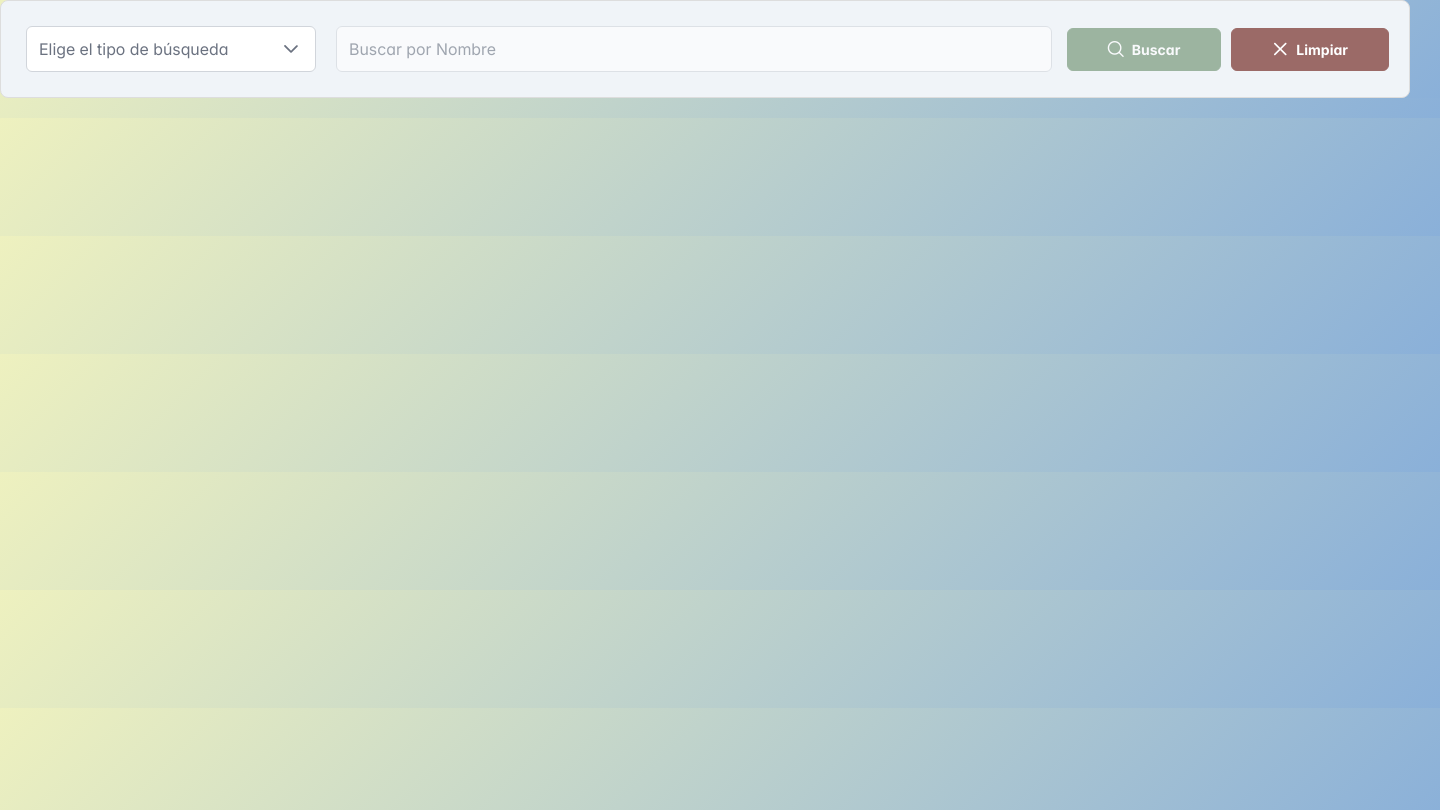
Test: Componente ProductSearch › deshabilita el botón Buscar si los campos no están completos
Expected: the button "Buscar" is disabled, [1067, 28, 1221, 70]
Note: Seleccionar búsqueda por estado
Click the element with test id "search-type-dropdown" at (171,49), box [26, 26, 316, 72]
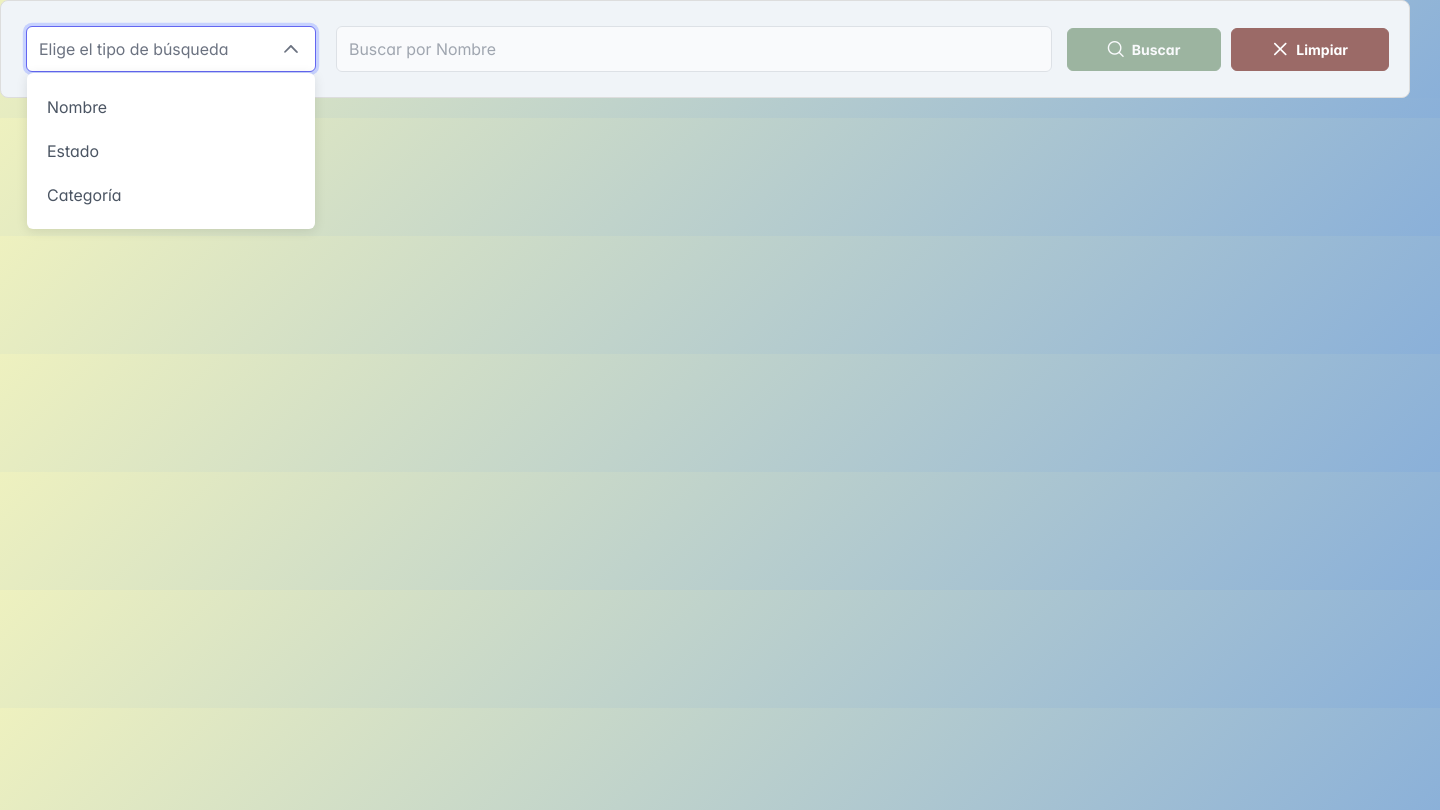
Click the option "Estado" at (73,151), box [47, 141, 99, 161]
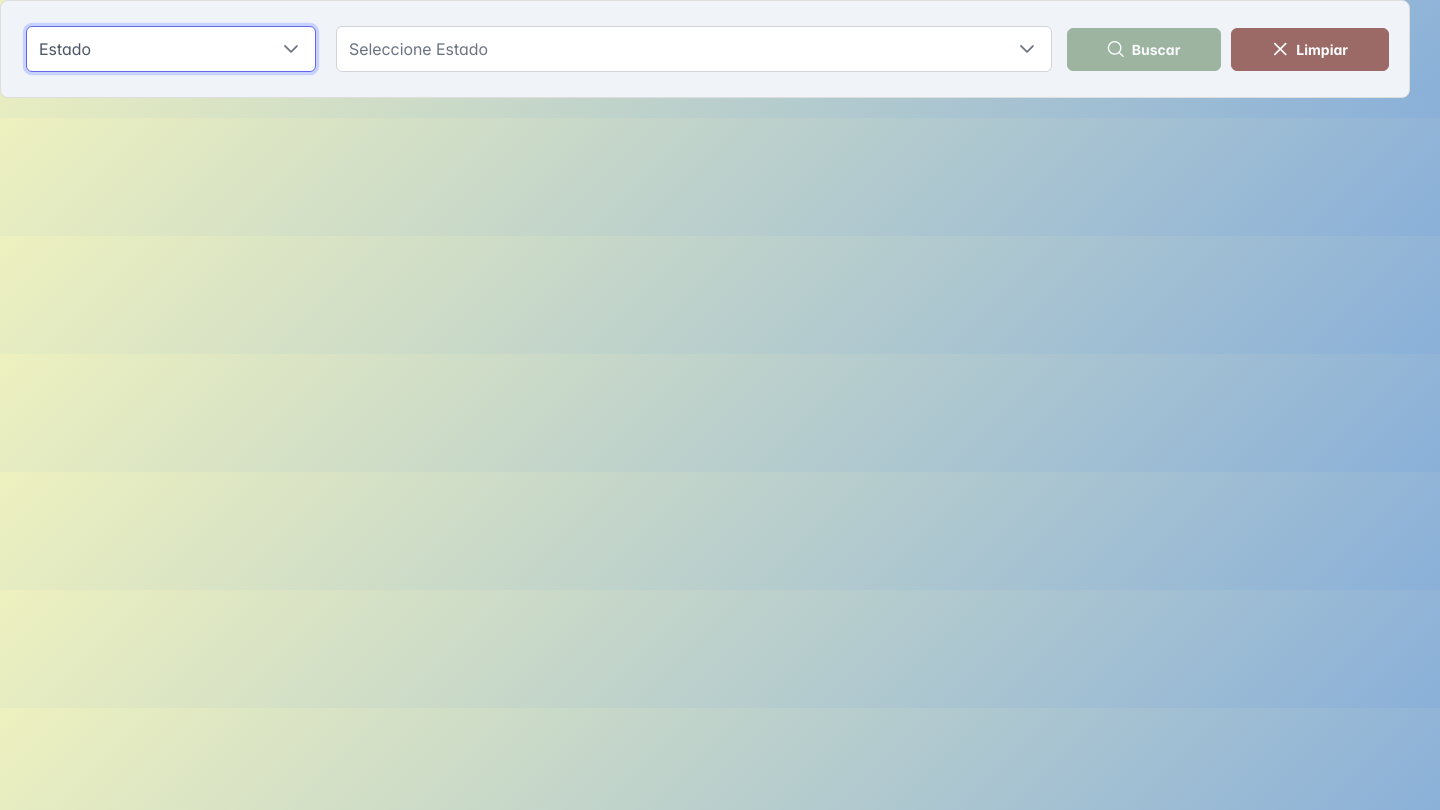
Expected: the button "Buscar" is disabled, [1067, 28, 1221, 70]
Note: Seleccionar un estado
Click the element with test id "status-dropdown" at (694,49), box [336, 26, 1052, 72]
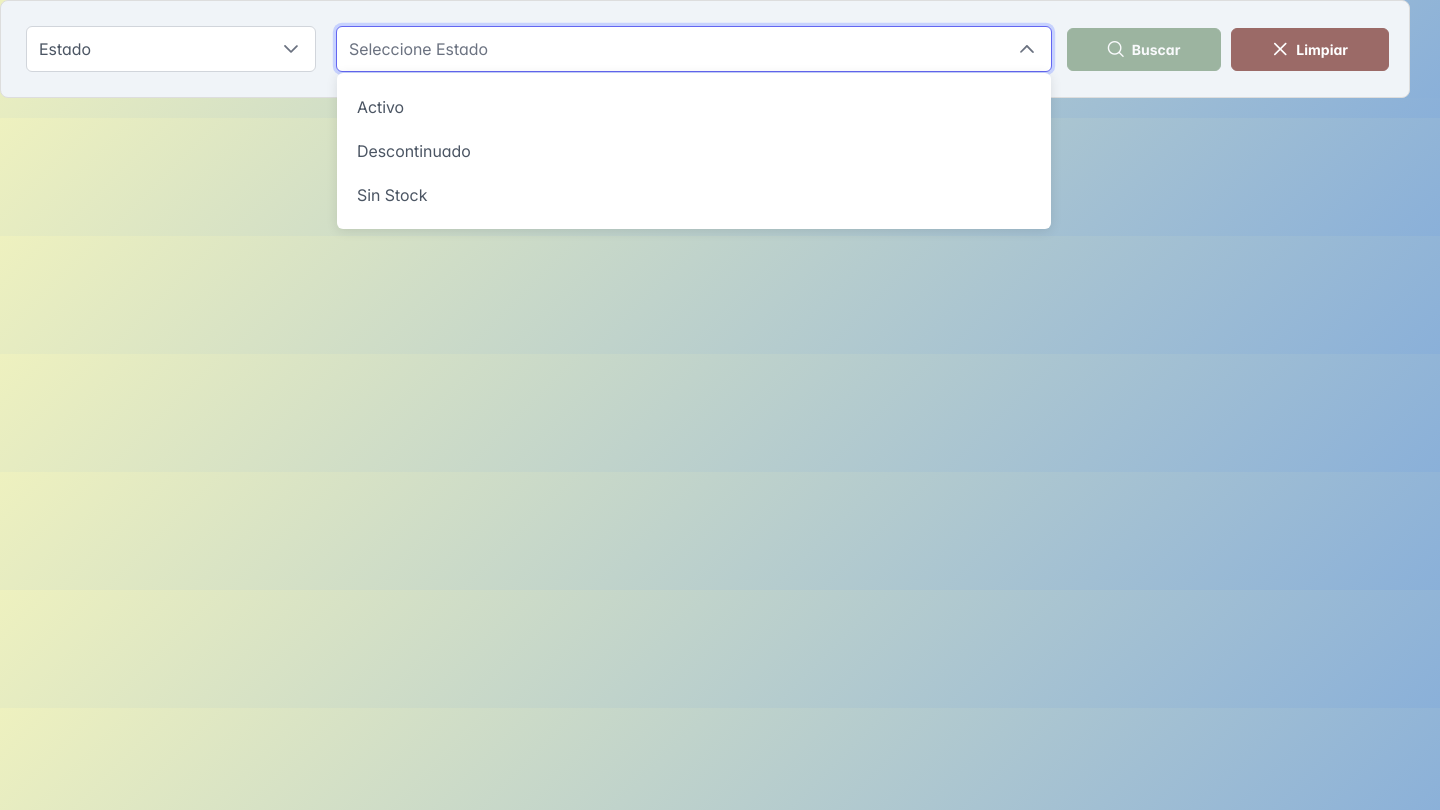
Click the option "Activo" at (381,107), box [357, 97, 404, 117]
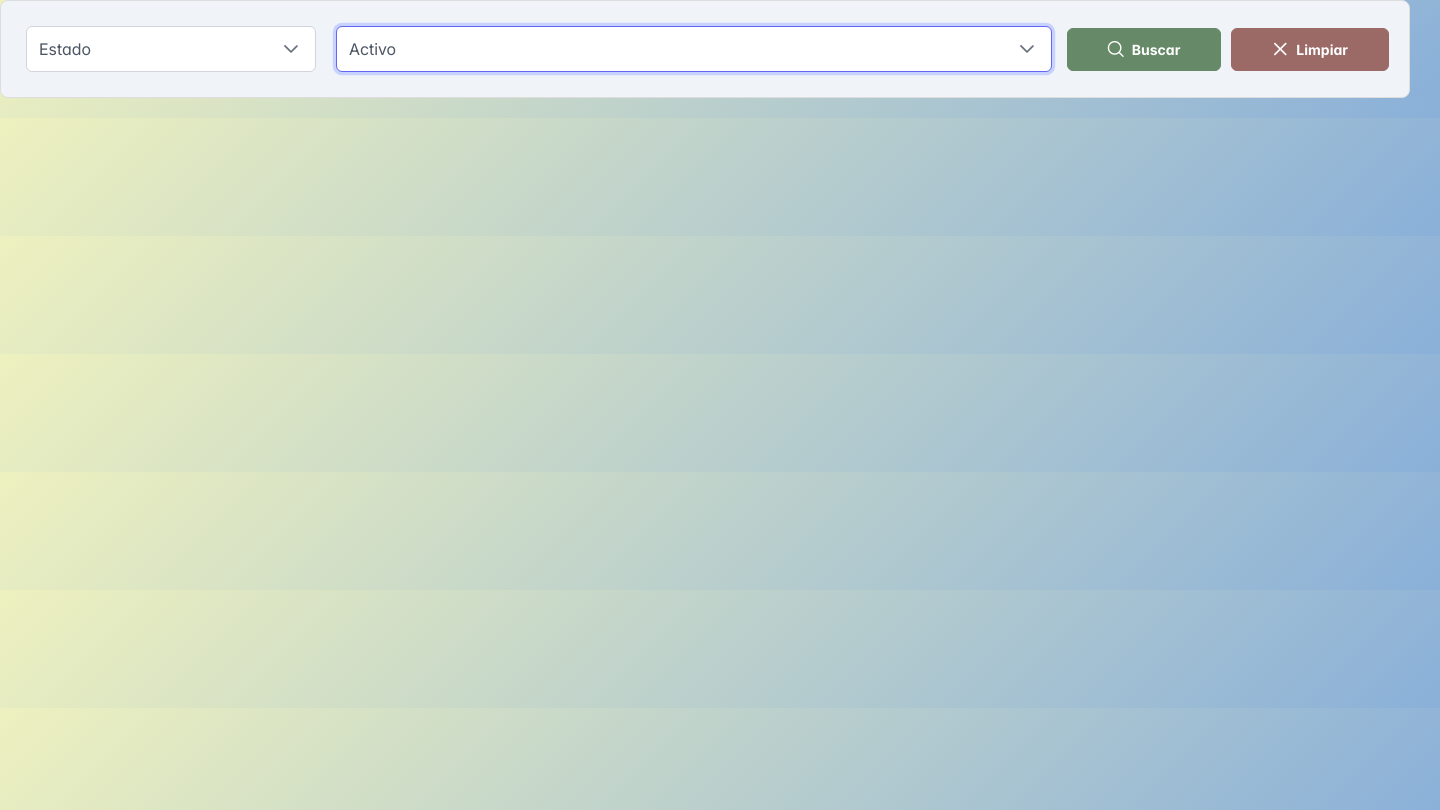
Now the button "Buscar" is enabled, box [1067, 28, 1221, 70]
